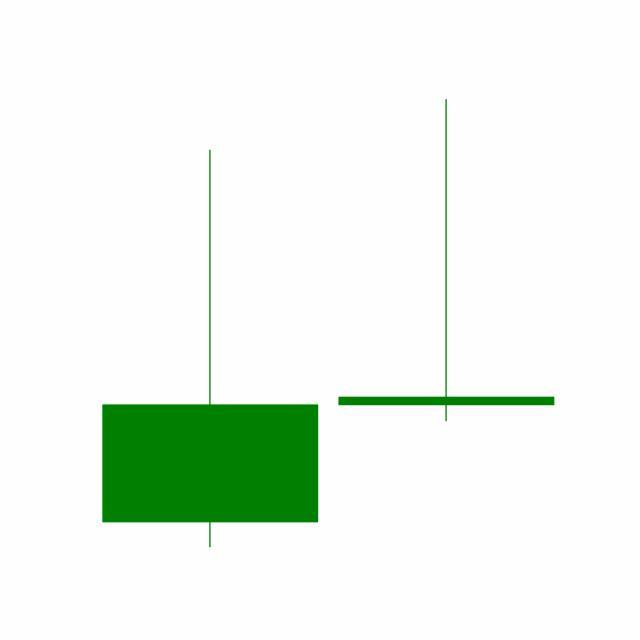Gravestone Doji: (328, 96, 566, 425)
